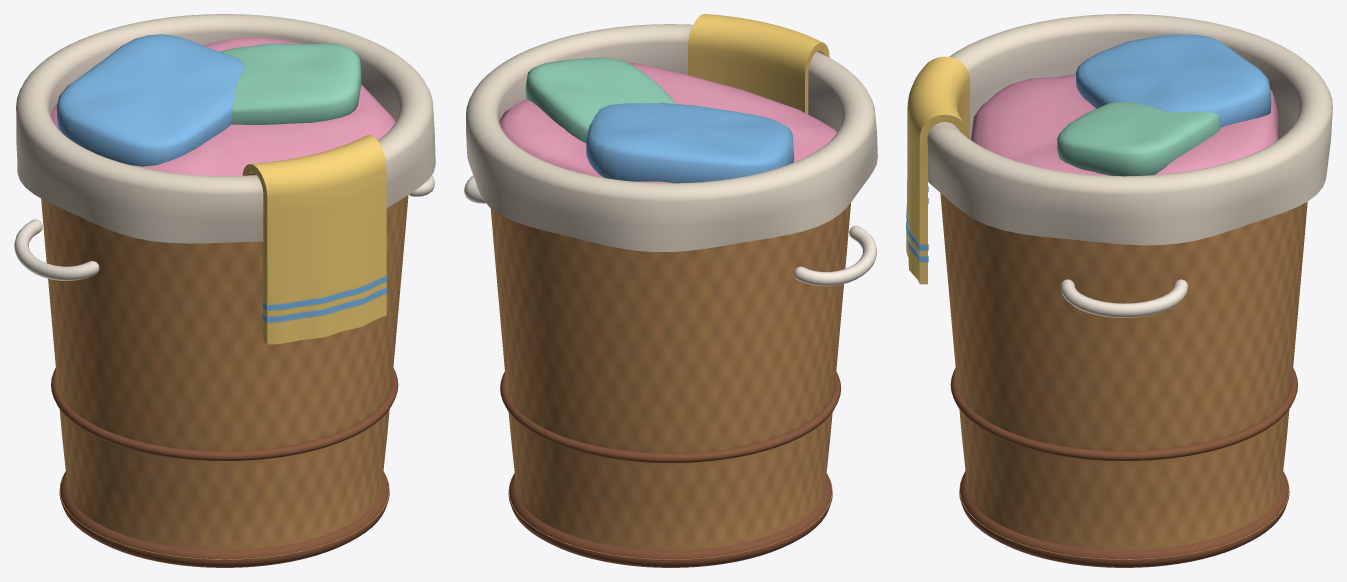
Rendered from laundry-basket.glb.
3 views of the same model, side by side, from view 1: azimuth 30°, elevation 25°; view 2: azimuth 150°, elevation 25°; view 3: azimuth 270°, elevation 25° (orthographic).
Visible parts, largest first — view 1: laundry-basket_body; view 2: laundry-basket_body; view 3: laundry-basket_body.
Boxes of the visible parts, x1,y1,x2,y2 form: laundry-basket_body: [14, 14, 435, 567]; laundry-basket_body: [464, 14, 877, 567]; laundry-basket_body: [906, 14, 1332, 567].
Bounding box in the file's own units: 0.5664 × 0.5715 × 0.5272.
Materials: 1 (1 with a texture image).
